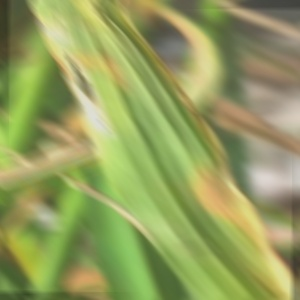Leaf_Blast: (144, 154, 266, 300)
